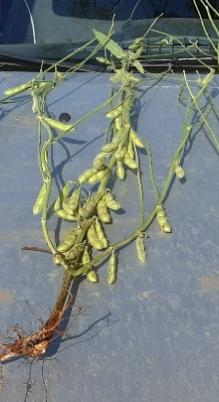soja: (81, 250, 103, 287), (52, 184, 78, 211), (41, 114, 78, 131), (154, 204, 174, 235), (50, 247, 82, 266), (52, 232, 79, 253), (84, 222, 102, 253), (3, 80, 36, 96), (109, 250, 123, 286), (83, 169, 111, 187), (94, 218, 109, 251), (34, 181, 47, 219), (135, 234, 150, 266), (127, 126, 147, 150), (106, 102, 130, 121), (55, 207, 80, 225), (66, 187, 84, 212), (96, 197, 112, 222), (173, 158, 187, 182), (122, 153, 141, 170), (42, 142, 52, 174), (196, 71, 217, 86), (98, 174, 115, 192), (99, 141, 122, 154), (81, 166, 98, 183), (108, 69, 126, 85), (106, 191, 119, 213), (91, 154, 114, 166), (30, 92, 40, 115), (116, 162, 127, 182), (113, 128, 125, 143), (131, 38, 146, 48)
